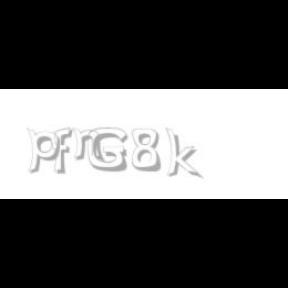8: (132, 128, 160, 172)
G: (87, 128, 127, 172)
f: (52, 128, 76, 174)
k: (165, 128, 203, 180)
n: (72, 128, 106, 162)
p: (26, 128, 64, 174)
